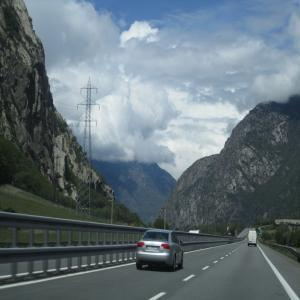Vehicle-registration-plate: (148, 246, 159, 252)
